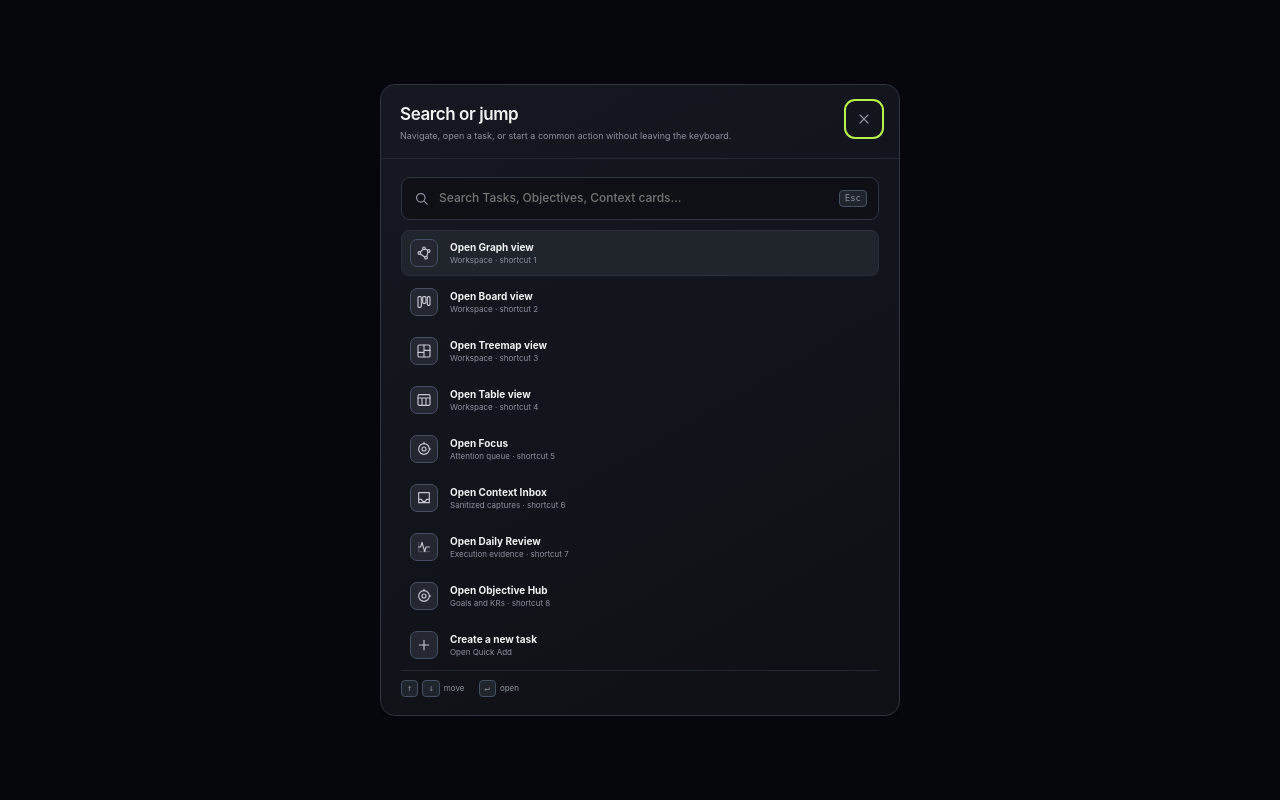
Test: presents Graph note search results as Context cards while preserving metadata
Type "decision" into the search field at (634, 198), box [439,178,830,219]
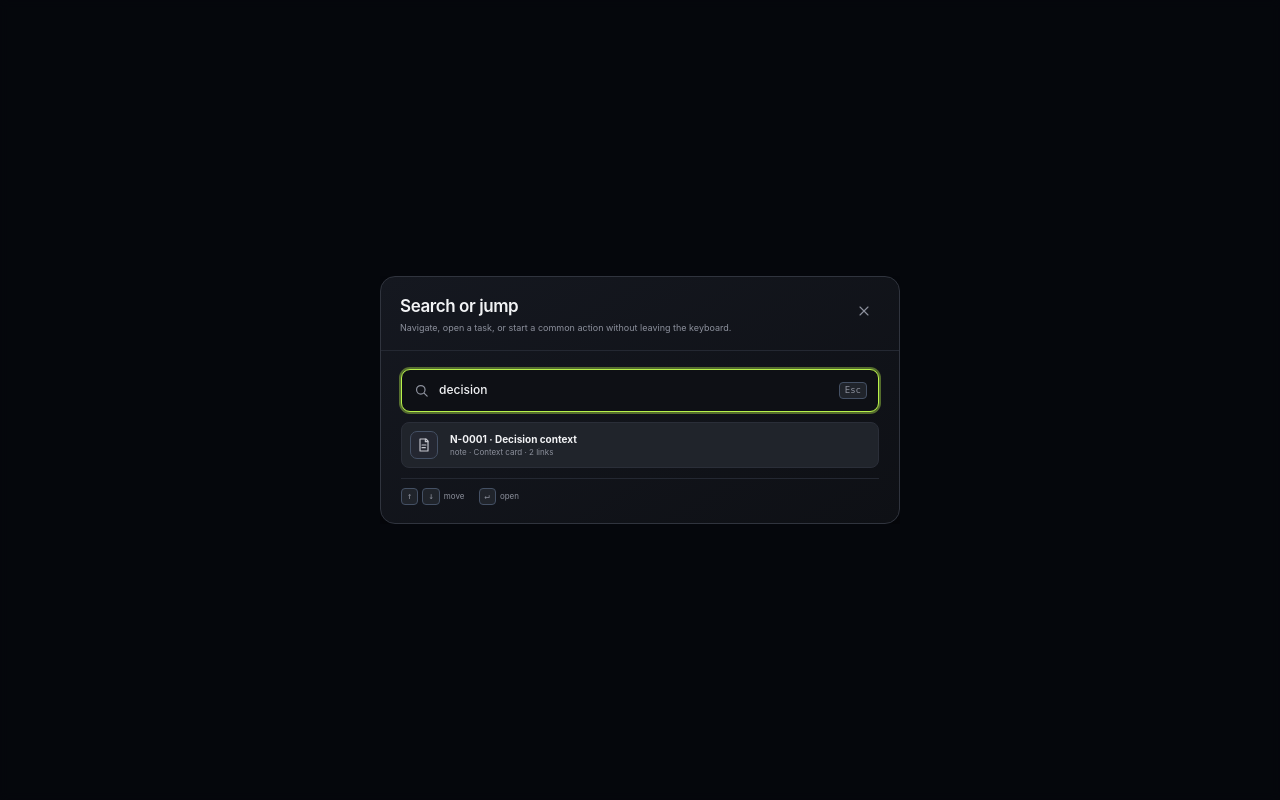
Result: the option "N-0001 · Decision context note · Context card · 2 links" is shown at [401,422,879,468]
